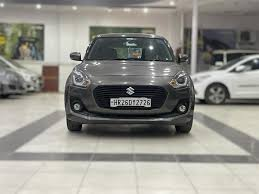Swift: (60, 32, 197, 137)
